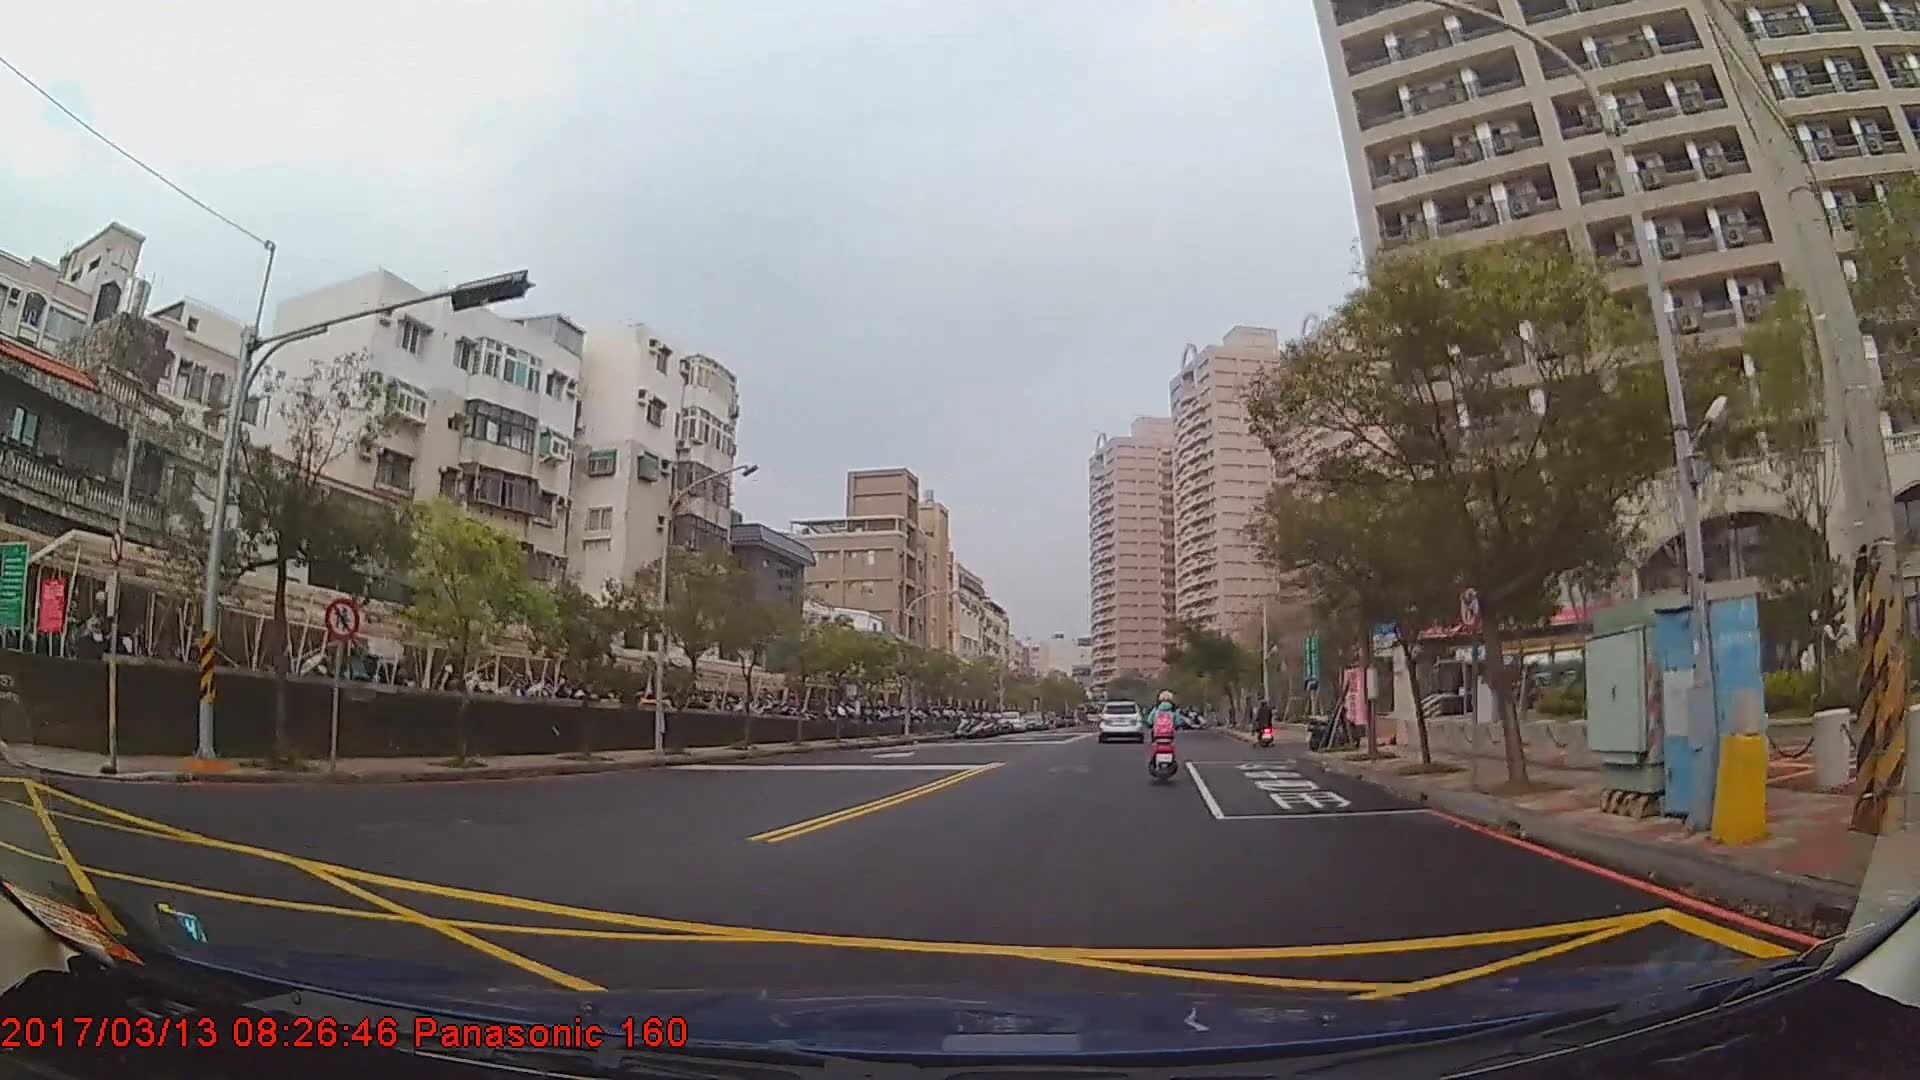rider: (1143, 694, 1192, 780), (1254, 700, 1277, 746)
vehicle: (1097, 698, 1145, 741)
